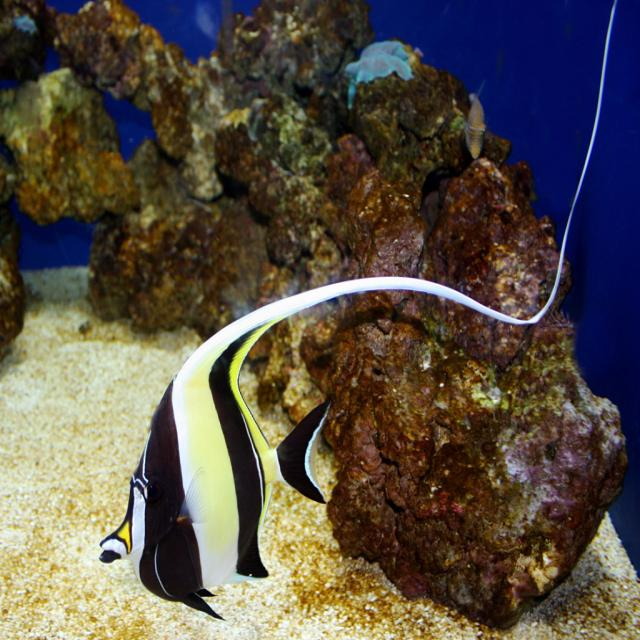MorishIdol: (96, 281, 332, 623)
